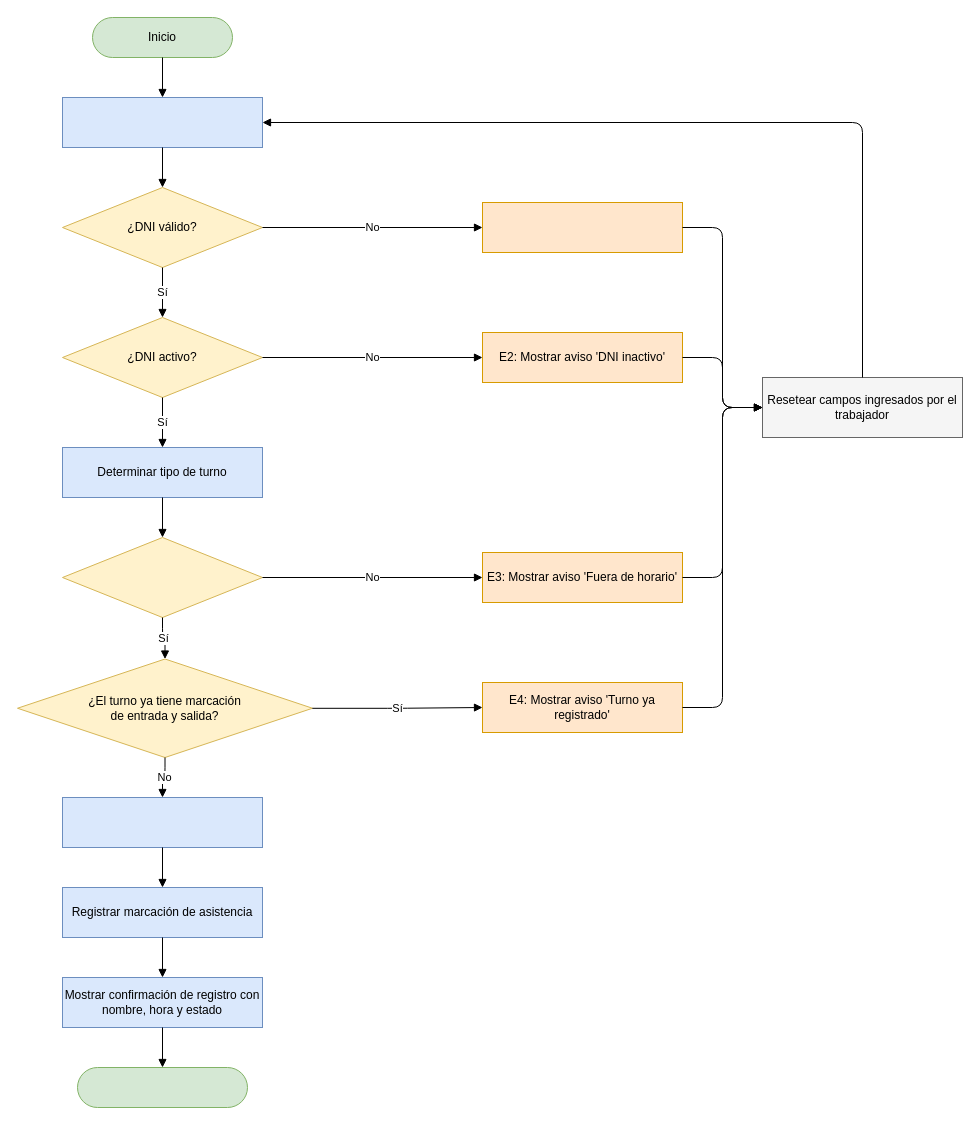
Some shapes in this 980 by 1125 pixel diagram are drawn without their labels. The shapes that lost their labels are listed below. From the top down, each one's centre as x and y in pixels, then its label:
(x=162, y=122): El trabajador digita su DNI
(x=582, y=227): E1: Mostrar aviso 'DNI inválido'
(x=162, y=577): ¿Dentro del horario?
(x=162, y=822): Calcular estado de la marcación
(x=162, y=1087): Fin: marcación registrada
